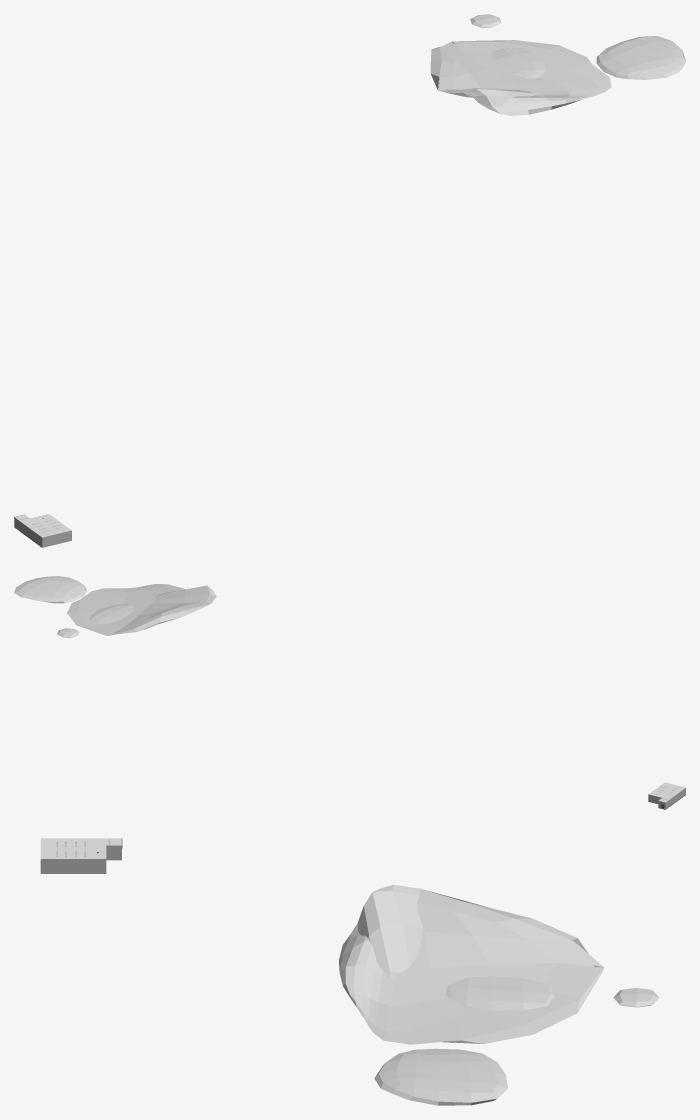
Rendered from tank_mkasra.fbx.
3 renders of one model, top to bottom at view 1: azimuth 30°, elevation 25°; view 2: azimuth 150°, elevation 25°; view 3: azimuth 270°, elevation 25°, orthographic. The views are drawn at different scales.
Parts seen in each view (by area): view 1: Cube.001, Cube.002__0, Cube.004__0; view 2: Cube.001, Cube.002__0, Cube.004__0, Plane.003; view 3: Cube.001, Cube.002__0, Cube.004__0, Plane.003, Wall3, Cube.003__0.
Boxes of the visible parts, x1,y1,x2,y2 form: Cube.001: (430,40,611,115); Cube.002__0: (596,36,685,79); Cube.004__0: (491,48,545,78); Cube.001: (67,584,216,635); Cube.002__0: (14,576,86,603); Cube.004__0: (89,604,154,630); Plane.003: (648,782,685,802); Cube.001: (339,884,604,1044); Cube.002__0: (374,1048,507,1105); Cube.004__0: (445,976,554,1010); Plane.003: (40,838,121,858); Wall3: (41,859,105,873); Cube.003__0: (613,988,659,1007).
Bounding box in the file's own units: 31643 × 9352 × 15082.
